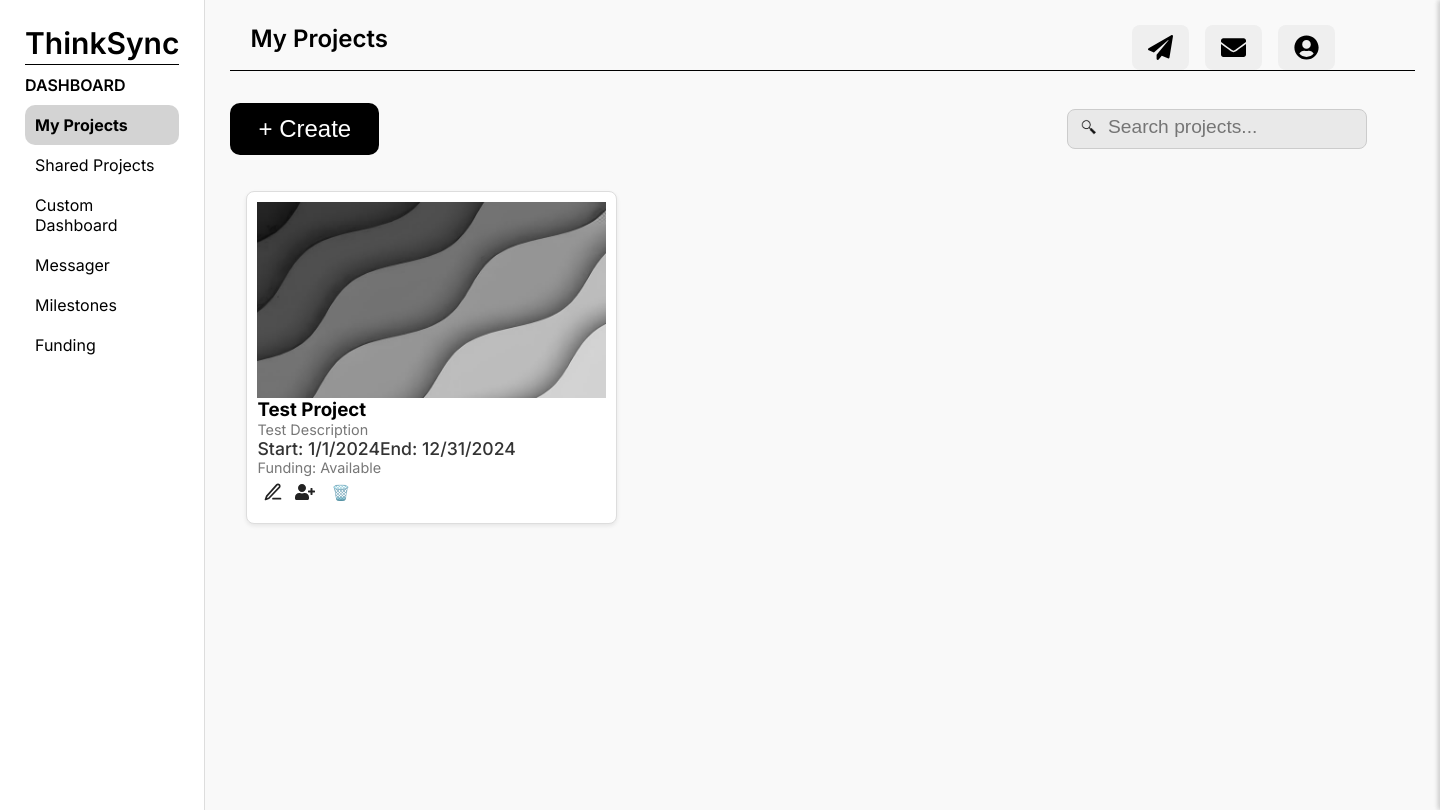
Test case: ResearcherDashboard › handles invite collaborator modal
Expected: the heading "Test Project" is shown, [258, 398, 366, 421]
# Click invite button
Step 1. Click the button titled "Invite Collaborators" → (306, 495), box [290, 476, 322, 513]
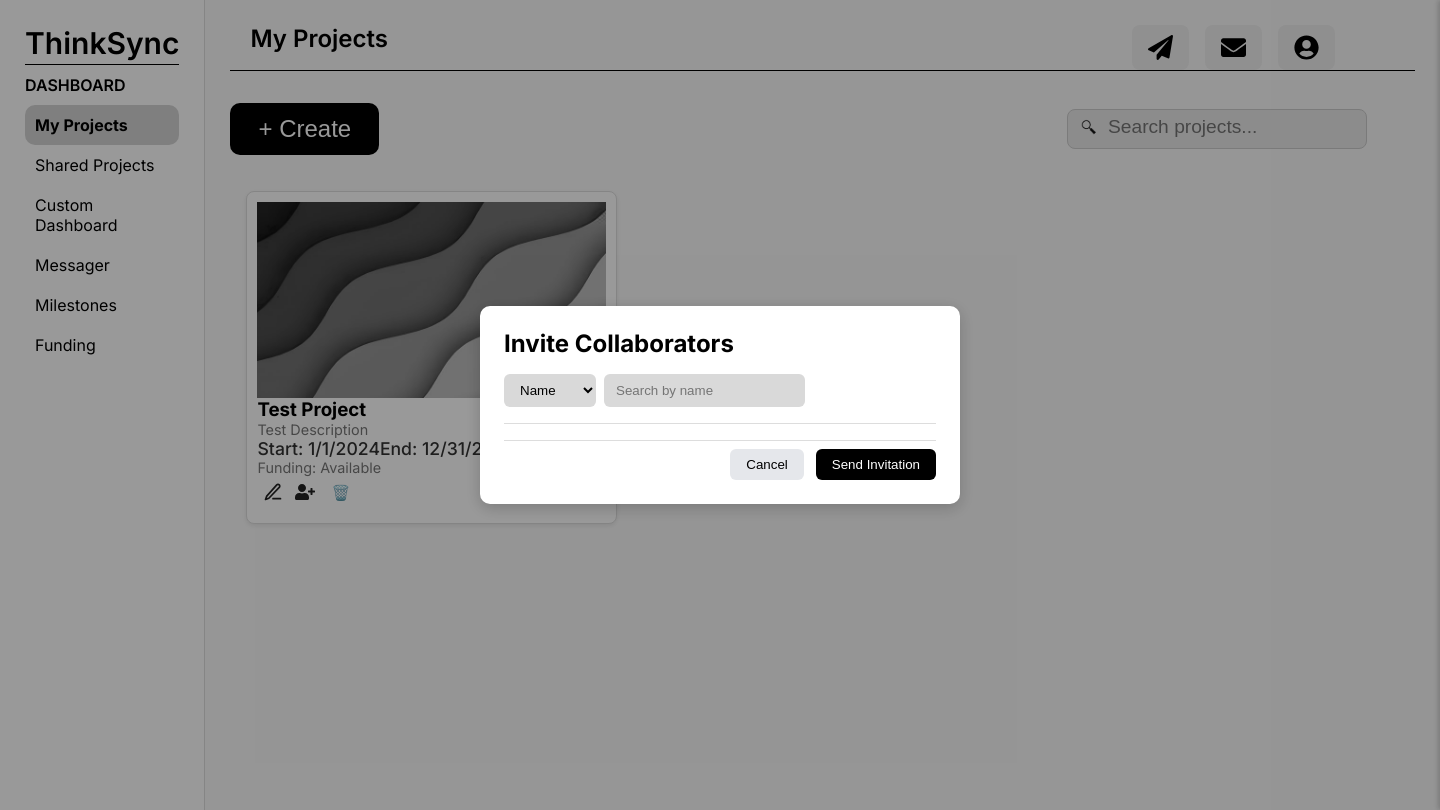
Expected: the dialog is shown, [480, 306, 960, 504]
Expected: the heading "Invite Collaborators" is shown, [504, 329, 734, 358]
Expected: the field with placeholder "Search by name" is shown, [604, 374, 805, 407]
# Close the modal
Step 2. Click the button "Cancel" → (767, 465), box [730, 449, 804, 480]
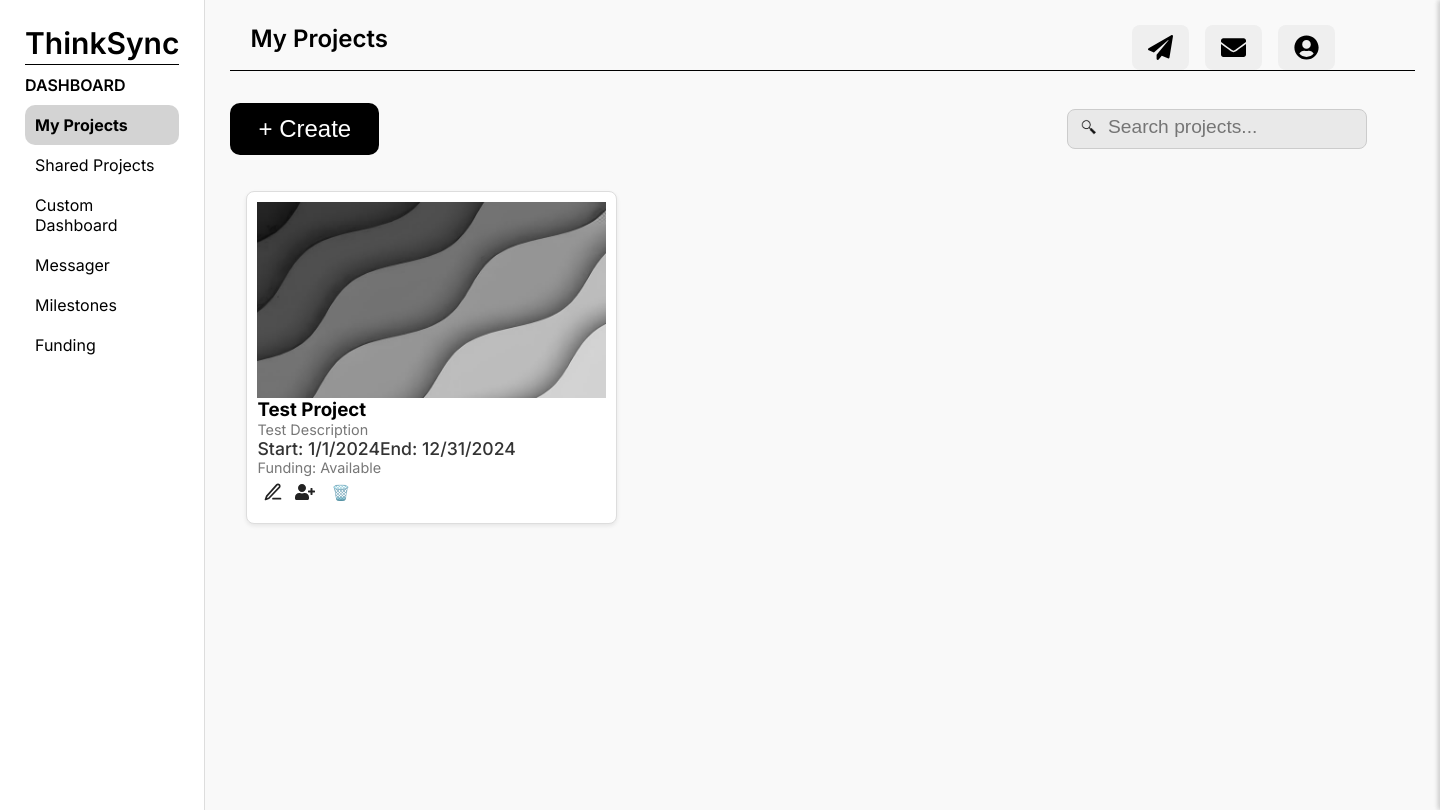
Expected: the dialog is gone
